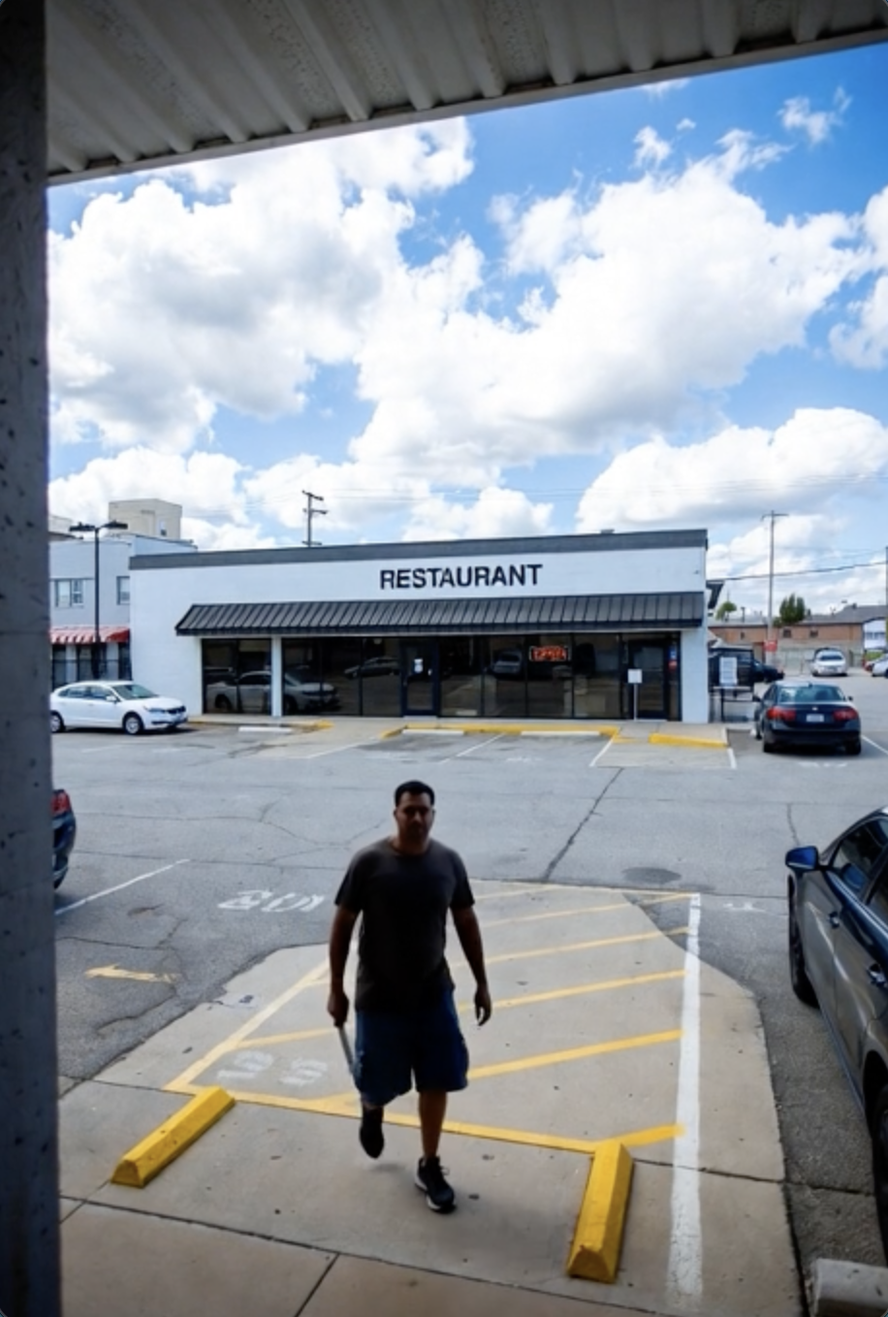Heavy Gun: (322, 774, 501, 1219)
Knife: (323, 988, 358, 1095)
